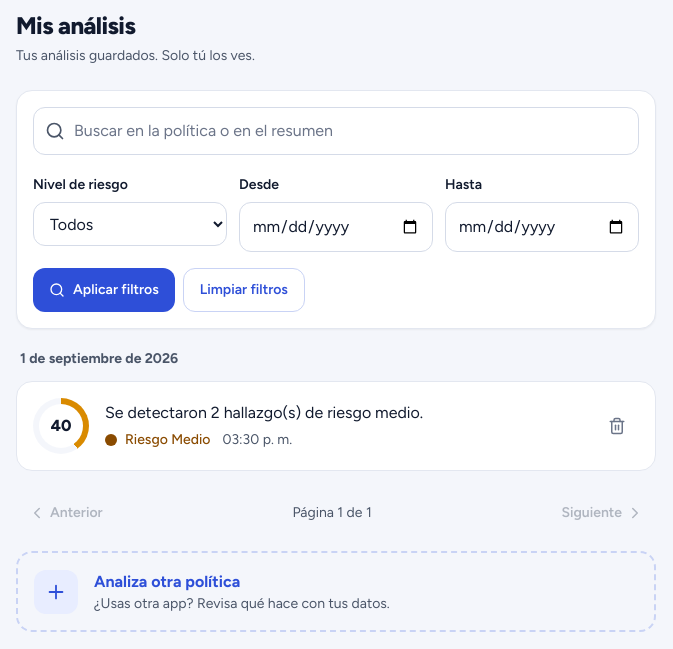
Test case: Historial › búsqueda y filtros › limpiar quita los filtros y vuelve a listar todo
Expected: the text "Se detectaron 2 hallazgo(s) de riesgo medio." is shown, x1=105 y1=403 x2=423 y2=422
Type "tiktok" into the search field labelled "Buscar" at (336, 131), box x1=33 y1=107 x2=639 y2=155
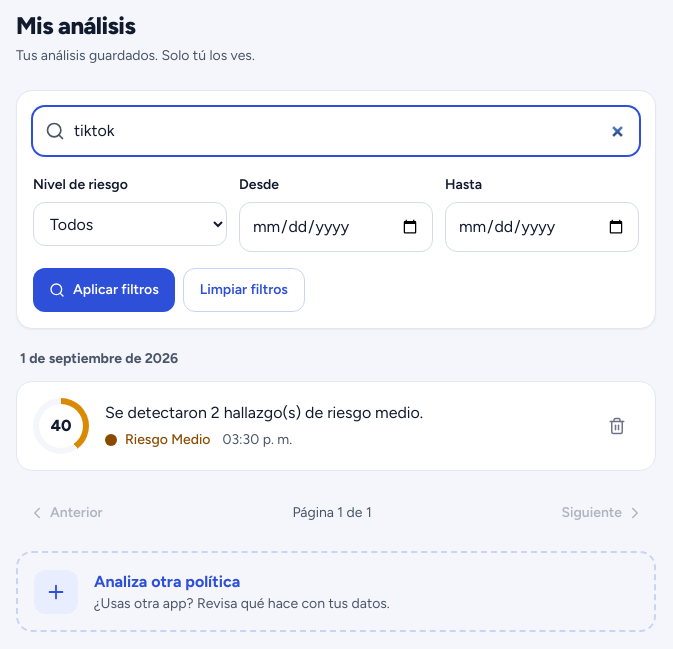
Click the button "Limpiar filtros" at (244, 290), box x1=183 y1=268 x2=305 y2=312
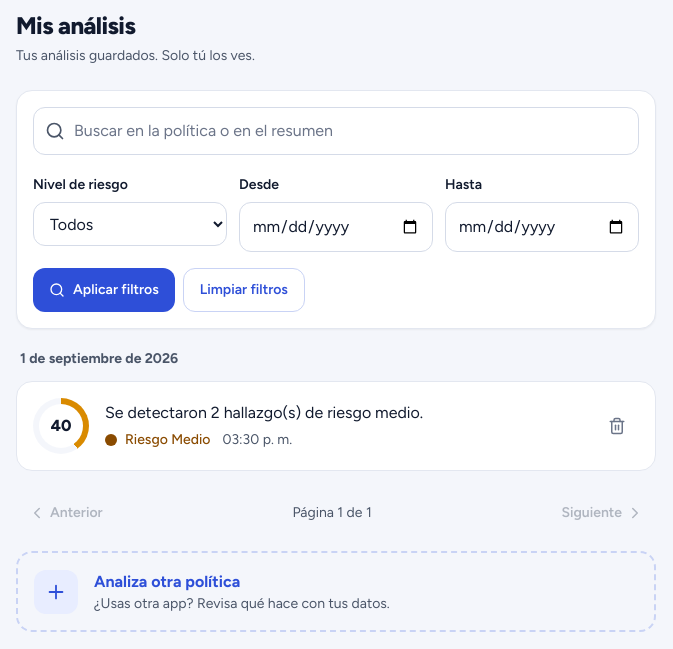
Expected: the search field labelled "Buscar" is empty, x1=33 y1=107 x2=639 y2=155
